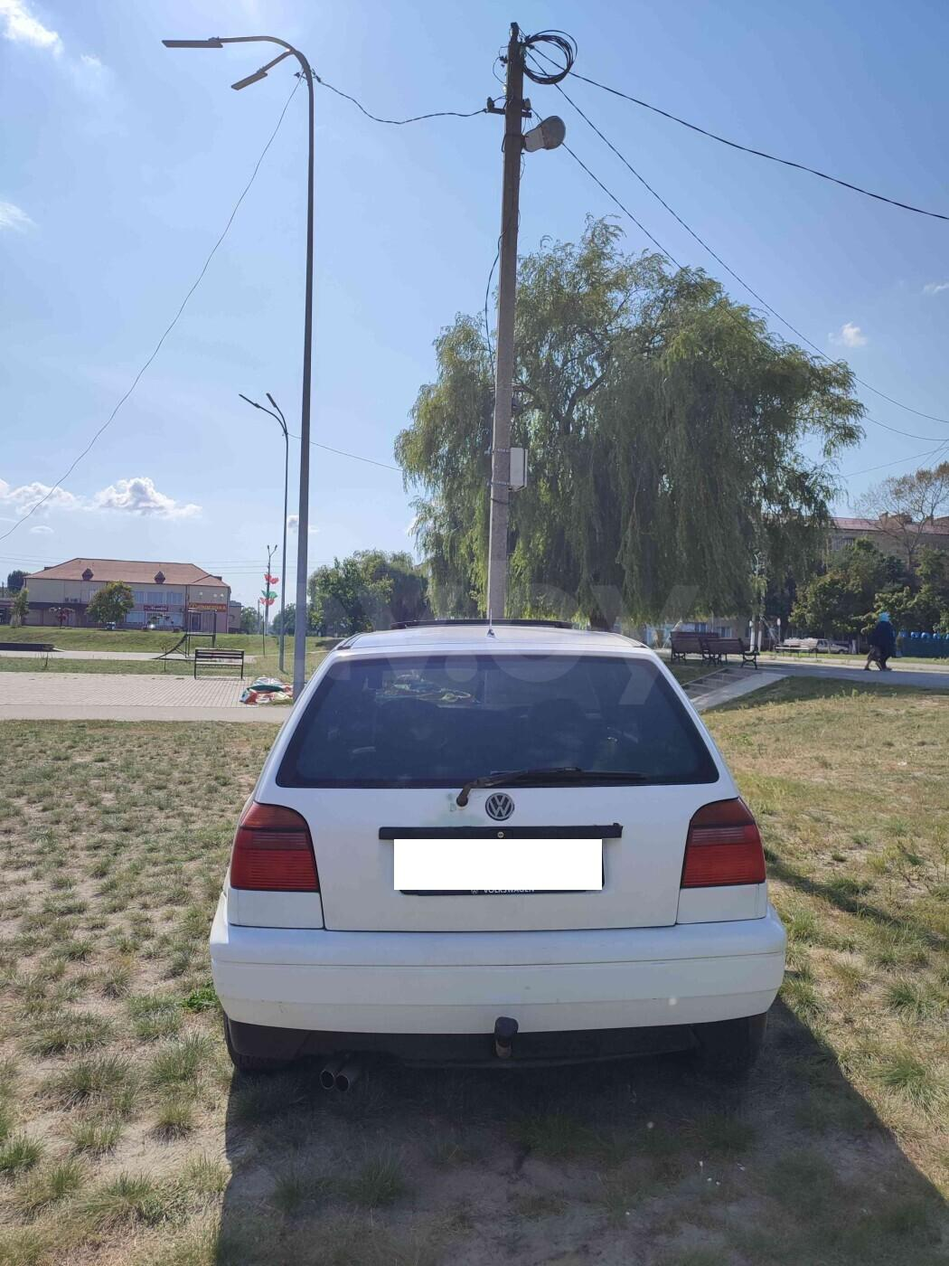Golf_1991-2000: (203, 615, 805, 1051)
